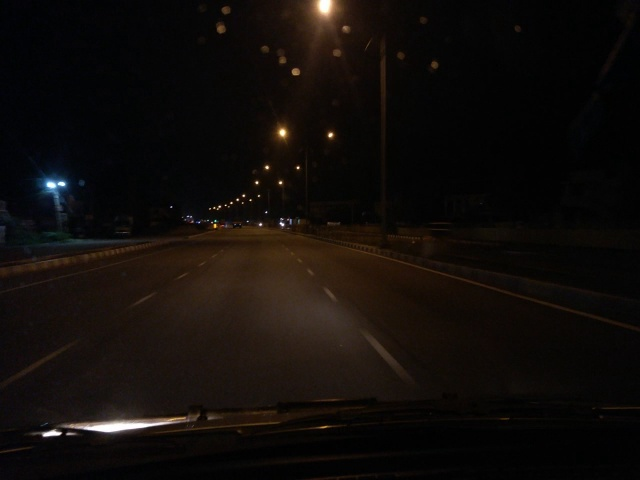truck: (234, 216, 242, 228)
